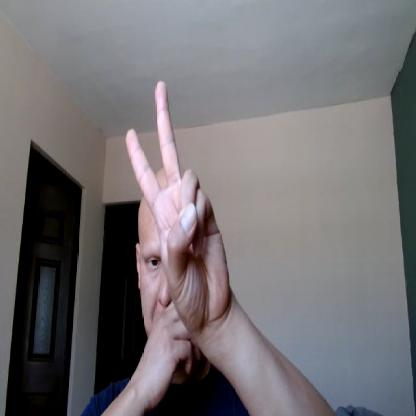V: (125, 79, 230, 321)
